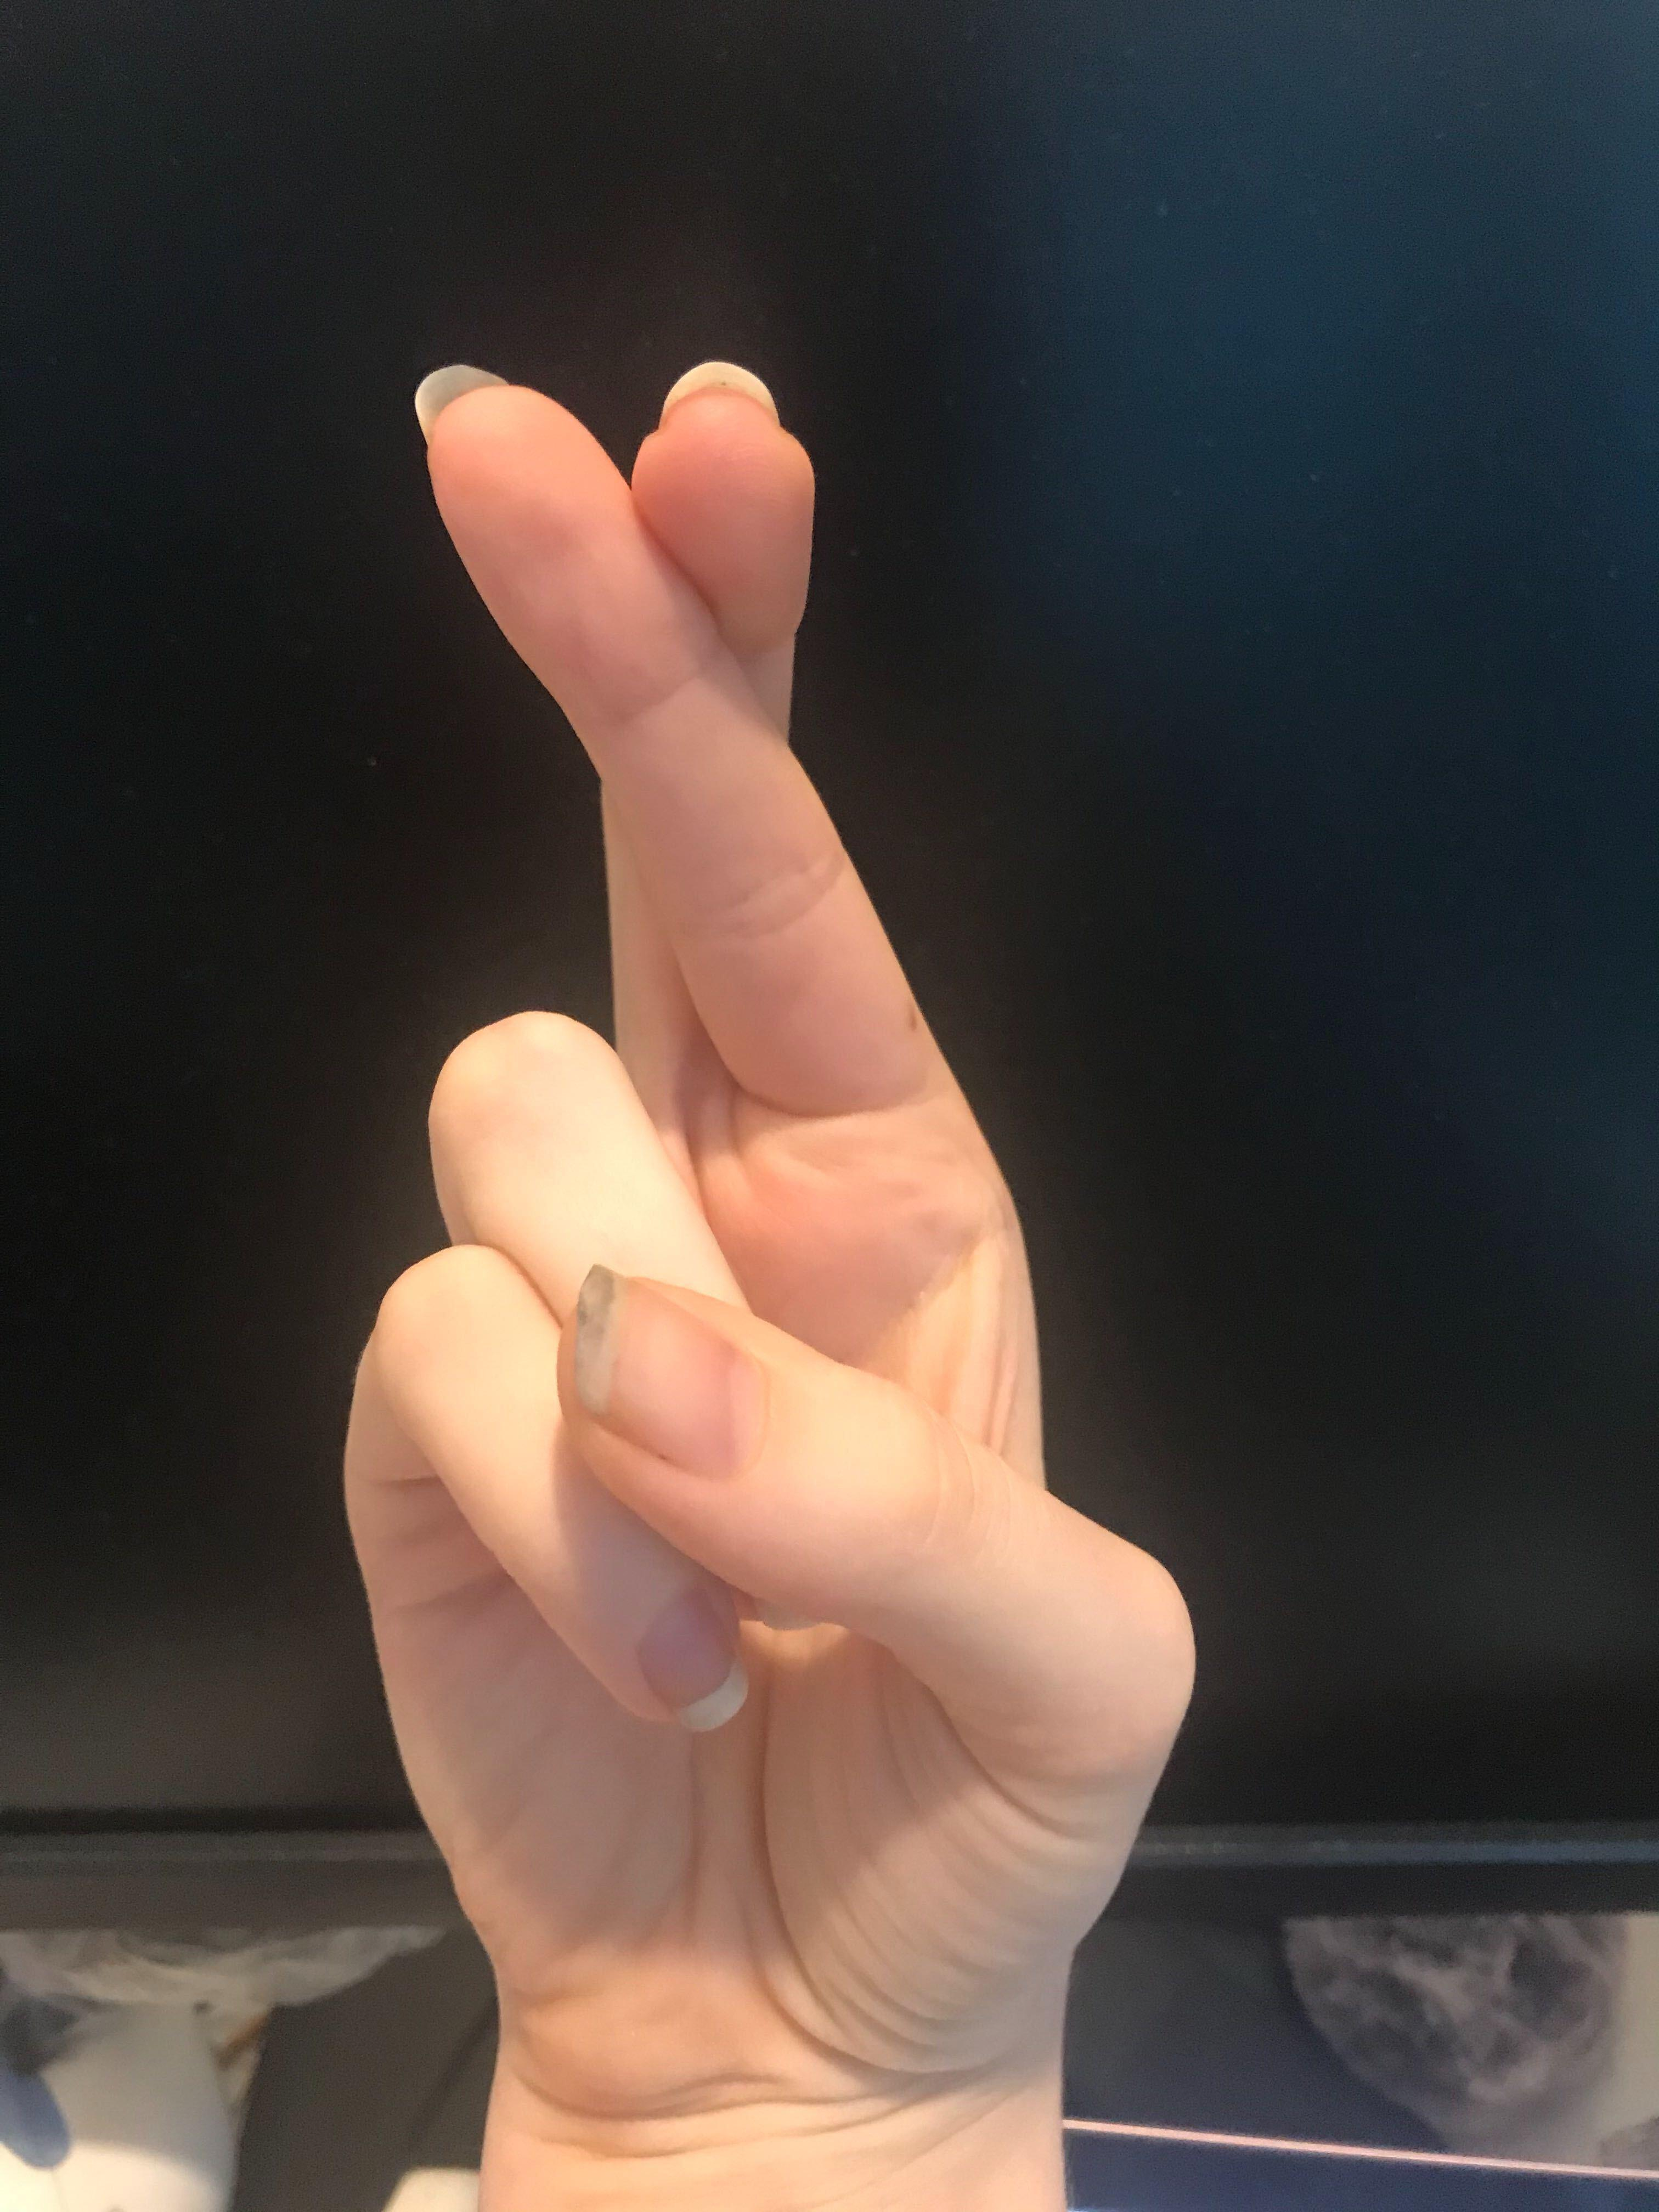R: (324, 336, 1213, 2144)
